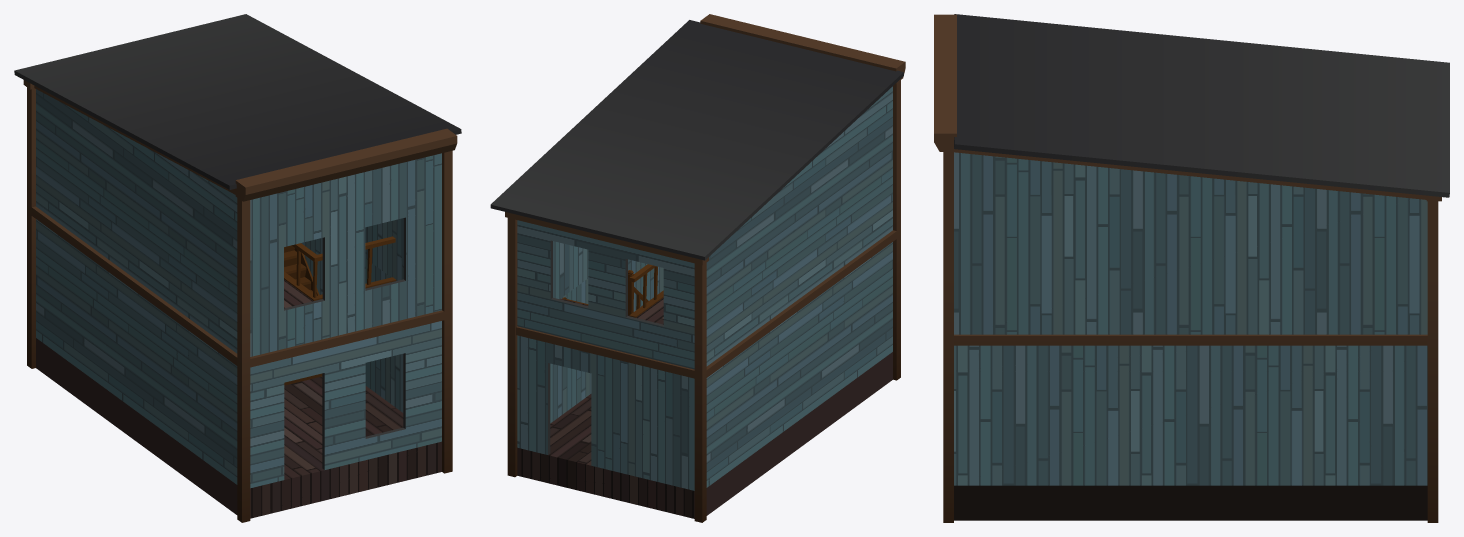
File: House 5 M Blue.glb
The picture shows the model from 3 angles, left to right: view 1: azimuth 30°, elevation 25°; view 2: azimuth 150°, elevation 25°; view 3: azimuth 270°, elevation 25°; orthographic projection. The views are drawn at different scales.
Visible parts, largest first — view 1: House 5 M Blue; view 2: House 5 M Blue; view 3: House 5 M Blue.
Part boxes in pixels (<box>): House 5 M Blue: <box>14,14,461,522</box>; House 5 M Blue: <box>490,14,905,522</box>; House 5 M Blue: <box>934,14,1449,522</box>.
Size of what is drawn, in the model's own units: 5.73 by 8 by 9.59.
3 materials, 3 textured.
